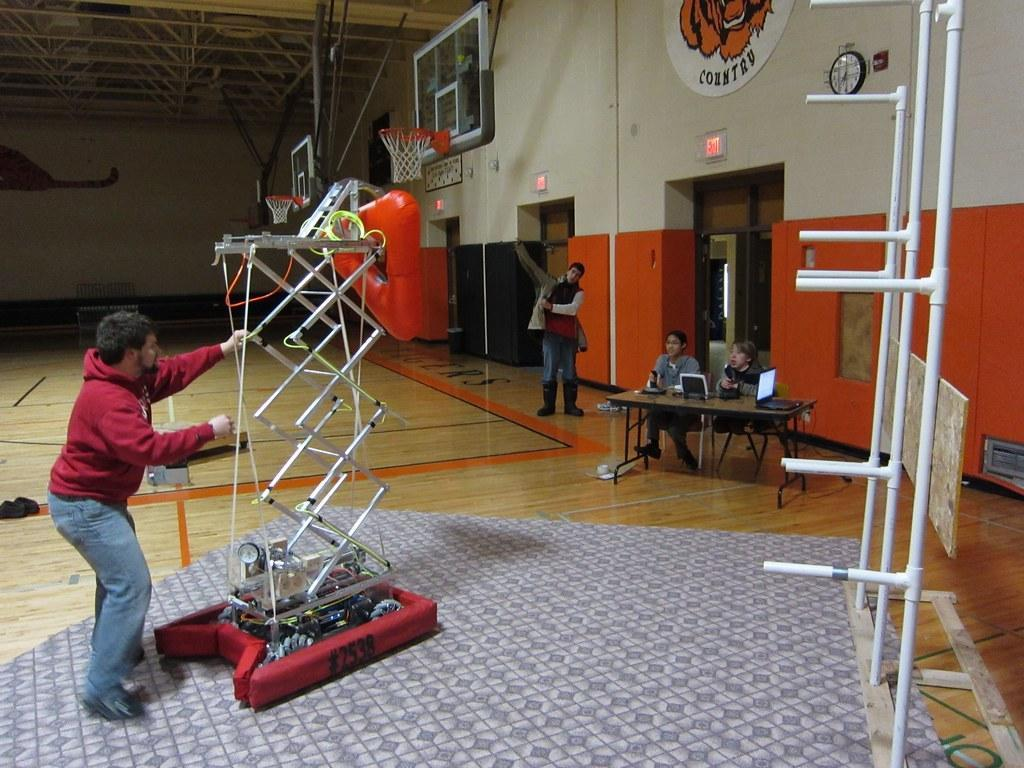robot: (147, 168, 447, 715)
